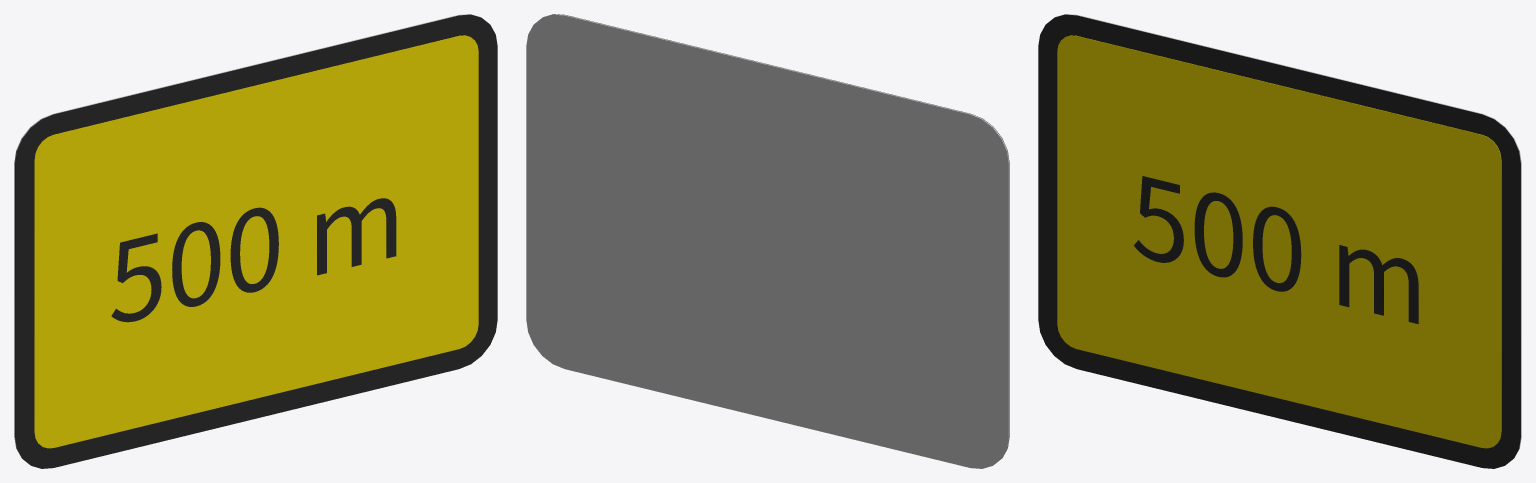
3 views of the same model, side by side, from view 1: azimuth 30°, elevation 25°; view 2: azimuth 150°, elevation 25°; view 3: azimuth 330°, elevation 25° (orthographic).
Parts seen in each view (by area): view 1: KM1_r01, KM1_r00, KM1_txt02, KM1_dos; view 2: KM1_dos, KM1_r00; view 3: KM1_r01, KM1_r00, KM1_txt02, KM1_dos.
Boxes of the visible parts, <box> form: KM1_r01: <box>34,35,478,448</box>; KM1_r00: <box>15,14,497,468</box>; KM1_txt02: <box>111,198,396,322</box>; KM1_dos: <box>14,14,480,458</box>; KM1_dos: <box>526,14,1009,468</box>; KM1_r00: <box>552,14,1009,456</box>; KM1_r01: <box>1057,35,1501,448</box>; KM1_r00: <box>1038,14,1520,468</box>; KM1_txt02: <box>1134,176,1418,323</box>; KM1_dos: <box>1055,14,1521,458</box>.
Size of the model in its own units: 0.5 by 0.35 by 0.0025.
